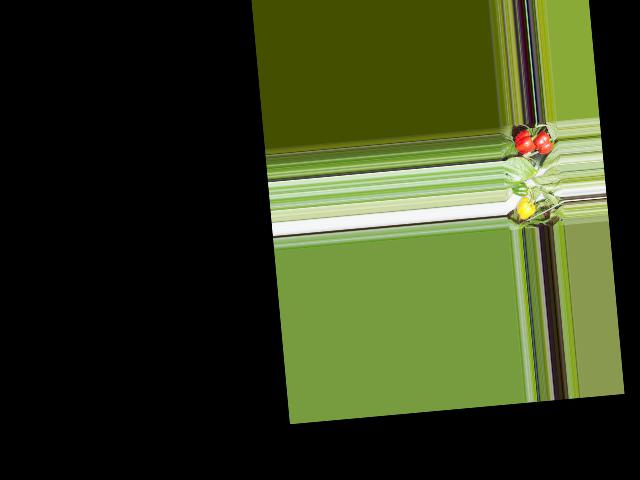bell_pepper: (513, 195, 537, 222)
